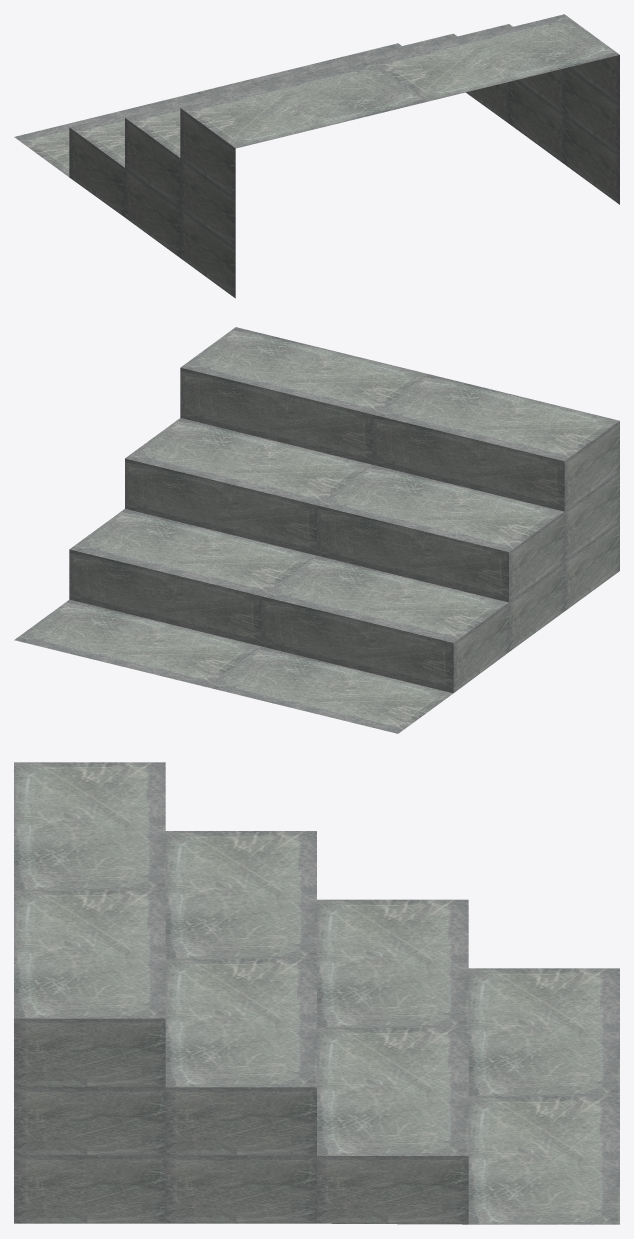
Rendered from stairs.FBX.
3 views of the same model, one above another, from view 1: azimuth 30°, elevation 25°; view 2: azimuth 150°, elevation 25°; view 3: azimuth 270°, elevation 25° (orthographic). The views are drawn at different scales.
Parts seen in each view (by area): view 1: ice_open_stairs; view 2: ice_open_stairs; view 3: ice_open_stairs.
Part boxes in pixels (x1,y1,x2,y2): ice_open_stairs: (14,14,619,298); ice_open_stairs: (14,327,619,733); ice_open_stairs: (14,762,619,1224).
Bounding box in the file's own units: 40 × 15 × 40.
